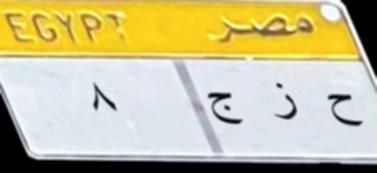7aa: (318, 84, 364, 130)
8: (81, 82, 122, 119)
jeem: (205, 84, 248, 130)
zay: (264, 76, 300, 122)
